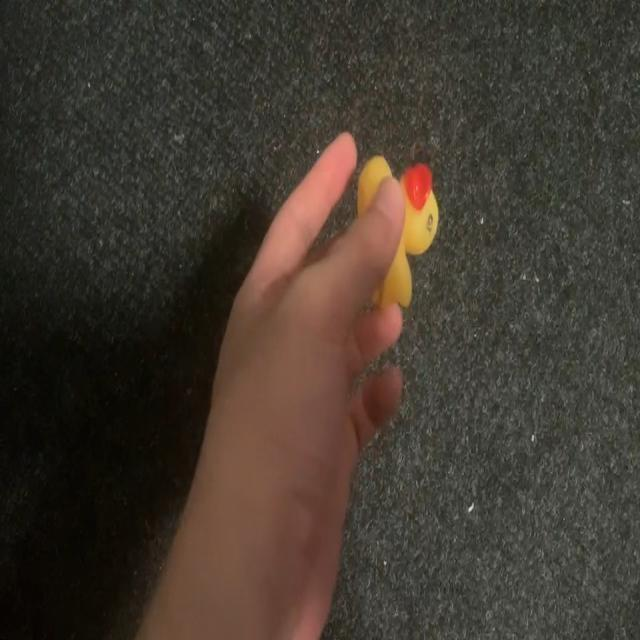rubber-duck: (378, 162, 437, 305), (356, 155, 390, 213)
